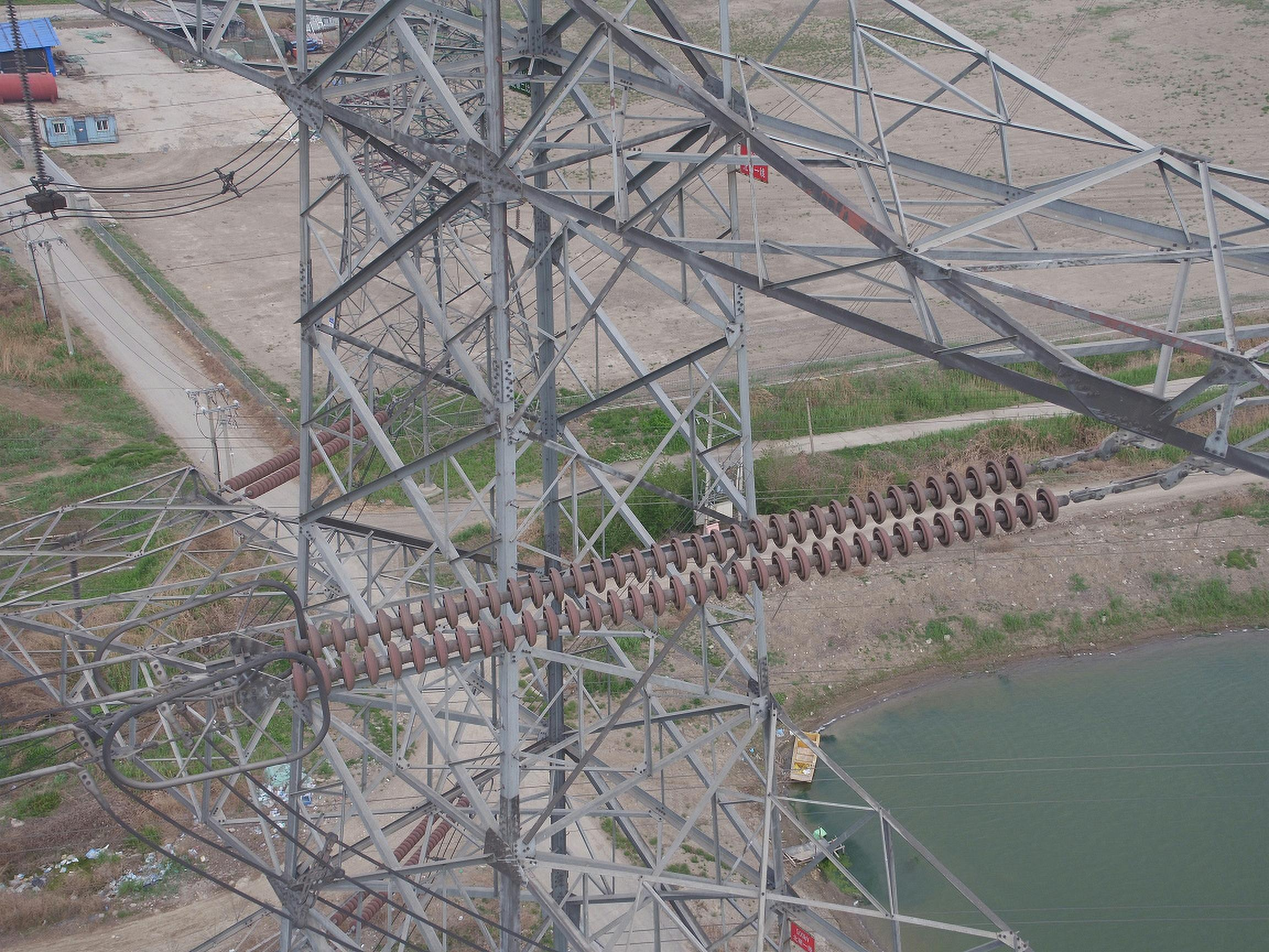insulator: (279, 451, 1062, 707), (328, 794, 470, 935), (221, 404, 390, 501), (1, 1, 49, 178), (67, 557, 94, 716)
